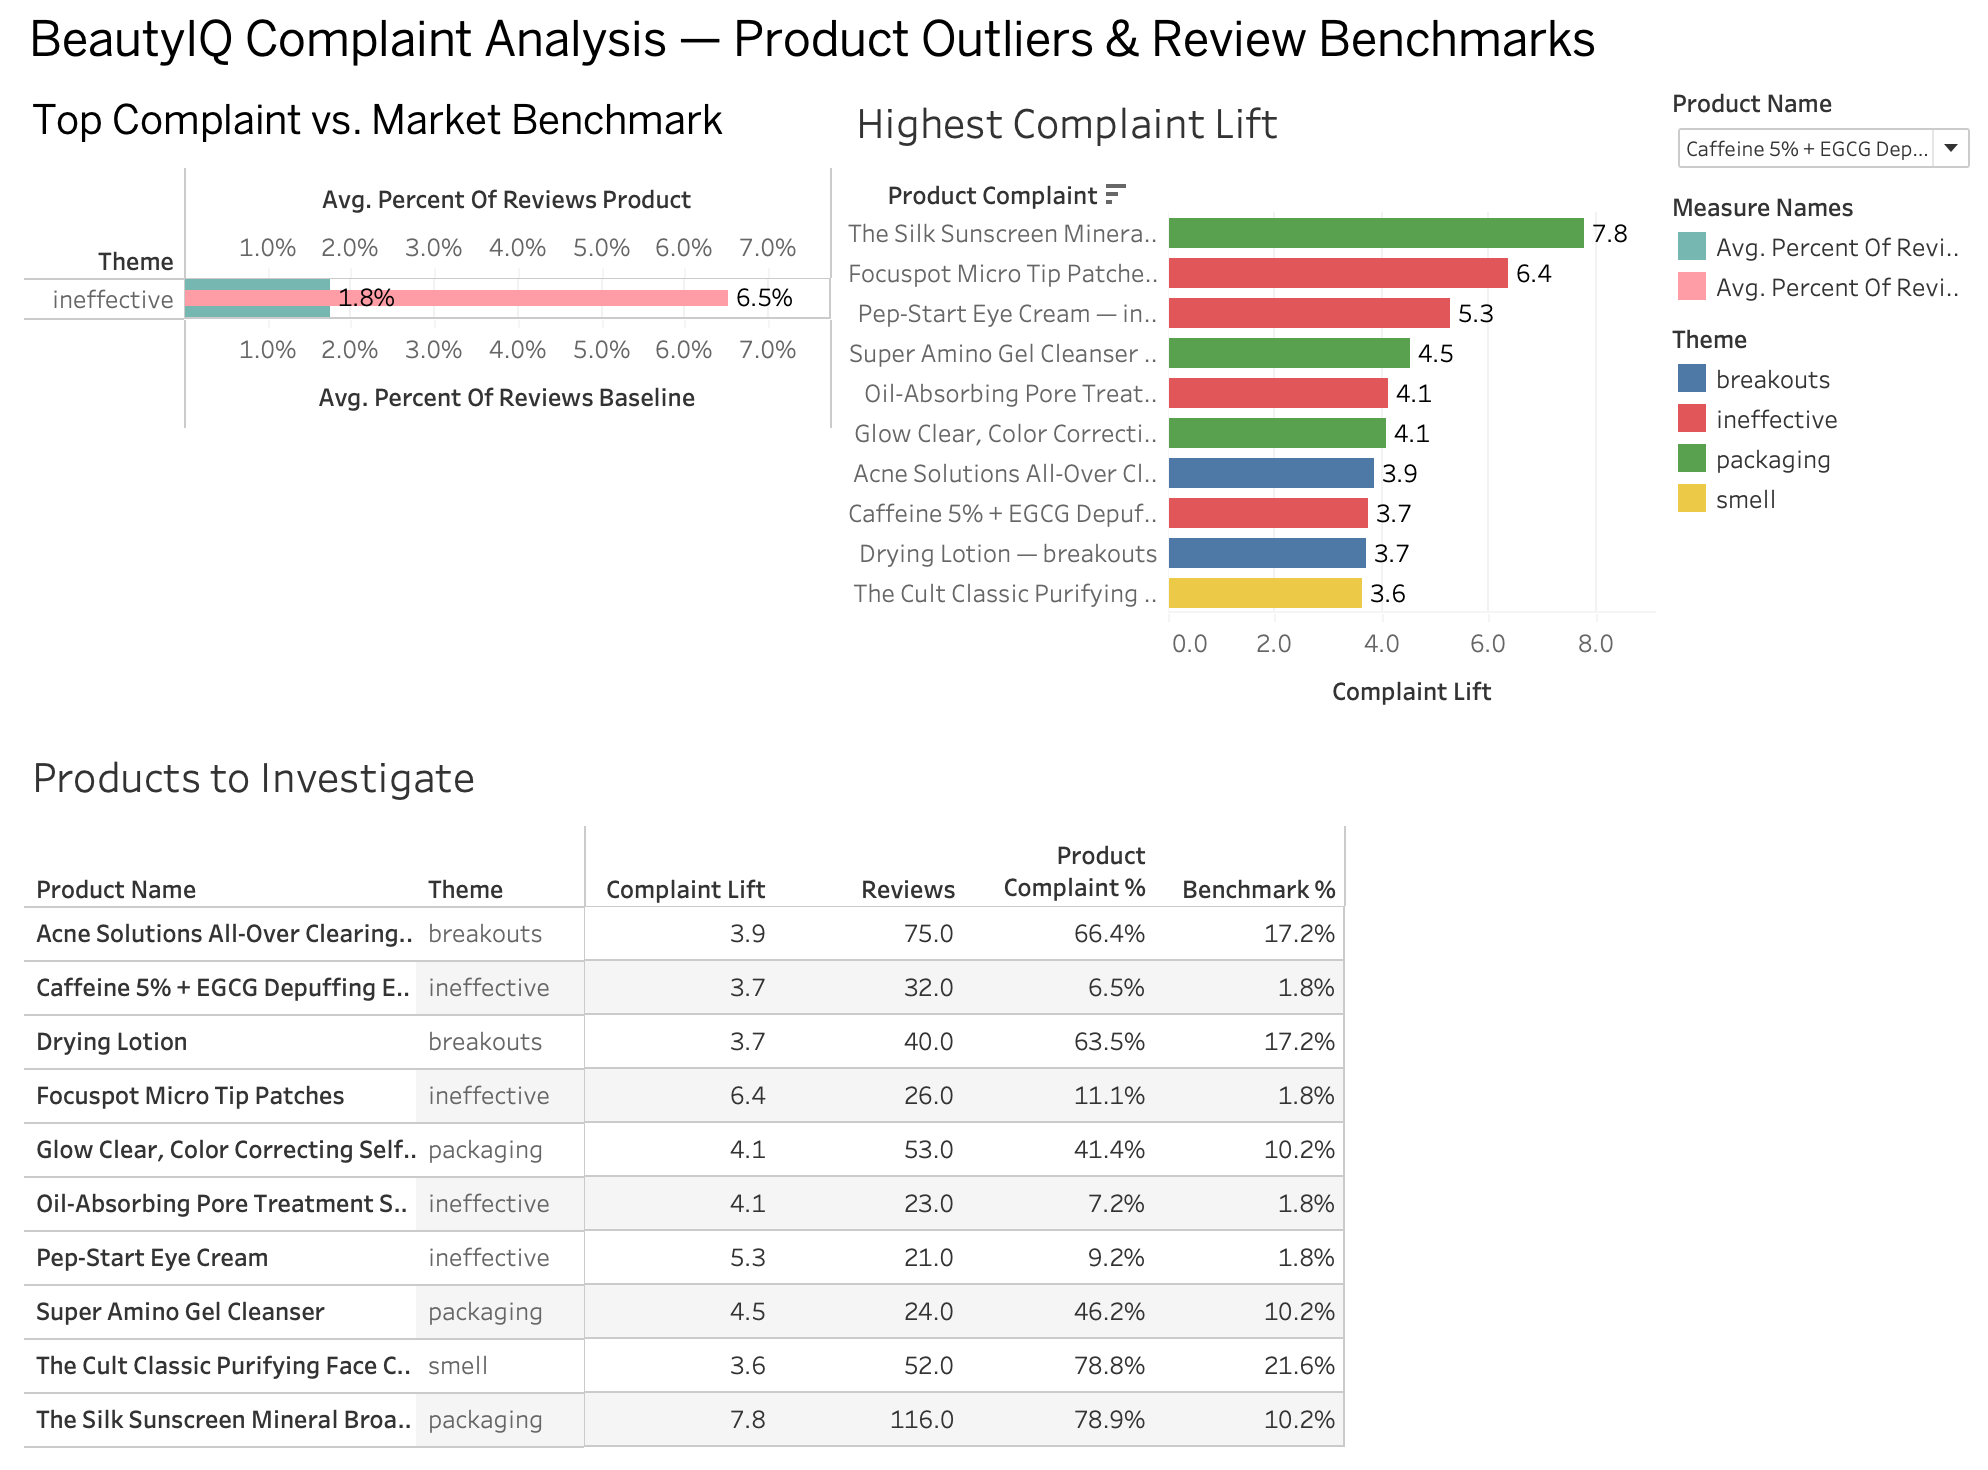

The dashboard page shown, as its layout file describes it:
{"tool":"tableau","page":{"name":"BeautyIQ Complaint Analysis","canvas":[1000,800],"ordinal":0},"visuals":[{"type":"title","box":[8,8,984,39]},{"type":"worksheet","title":"Product vs Benchmark","mark":"Bar","rows":["theme"],"cols":["percent_of_reviews_baseline","percent_of_reviews_product"],"box":[8,47,412,302.2]},{"type":"worksheet","title":"Highest Complaint Lift","mark":"Bar","rows":["Calculation_5795775286640640"],"cols":["lift"],"box":[420,47,412,302.2]},{"type":"filter","title":"Product vs Benchmark","param":"[federated.1d89vb702gkyc51dzp98g0i93n4c].[none:product_name:nk]","box":[832,47,160,52]},{"type":"legend","title":"Product vs Benchmark","param":"[federated.1d89vb702gkyc51dzp98g0i93n4c].[:Measure Names]","box":[832,99,160,66]},{"type":"legend","title":"Highest Complaint Lift","param":"[federated.1d89vb702gkyc51dzp98g0i93n4c].[none:theme:nk]","box":[832,165,160,106]},{"type":"worksheet","title":"Products to Investigate","mark":"Automatic","rows":["product_name","theme"],"box":[8,349.2,984,442.8]}]}

Visuals, with their boxes on the page's 1000x800 design canvas (x1, y1, x2, y2). These are canvas units, not pixel positions in the 1988x1470 screenshot, which may show the page scaled, cropped or inside an application window:
title: {"left": 8, "top": 8, "right": 992, "bottom": 47}
"Product vs Benchmark" worksheet (Bar marks): {"left": 8, "top": 47, "right": 420, "bottom": 349}
"Highest Complaint Lift" worksheet (Bar marks): {"left": 420, "top": 47, "right": 832, "bottom": 349}
"Product vs Benchmark" filter: {"left": 832, "top": 47, "right": 992, "bottom": 99}
"Product vs Benchmark" legend: {"left": 832, "top": 99, "right": 992, "bottom": 165}
"Highest Complaint Lift" legend: {"left": 832, "top": 165, "right": 992, "bottom": 271}
"Products to Investigate" worksheet: {"left": 8, "top": 349, "right": 992, "bottom": 792}
